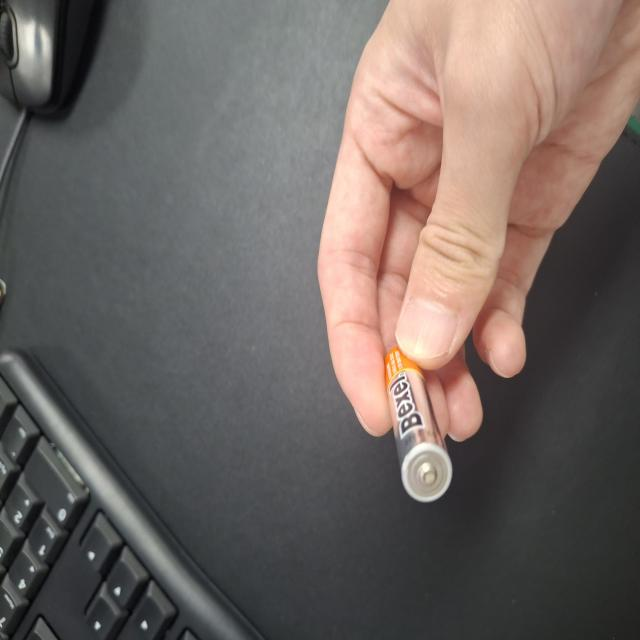AA: (103, 514, 220, 603)
